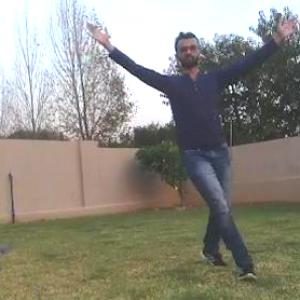takeoff: (86, 18, 299, 274)
